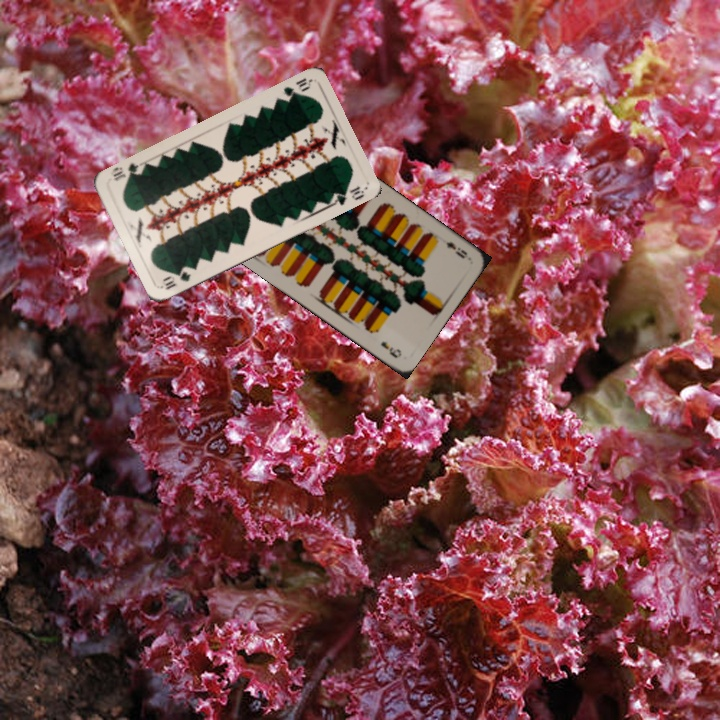E9: (442, 237, 470, 261)
G10: (276, 74, 314, 104), (158, 267, 194, 293)
